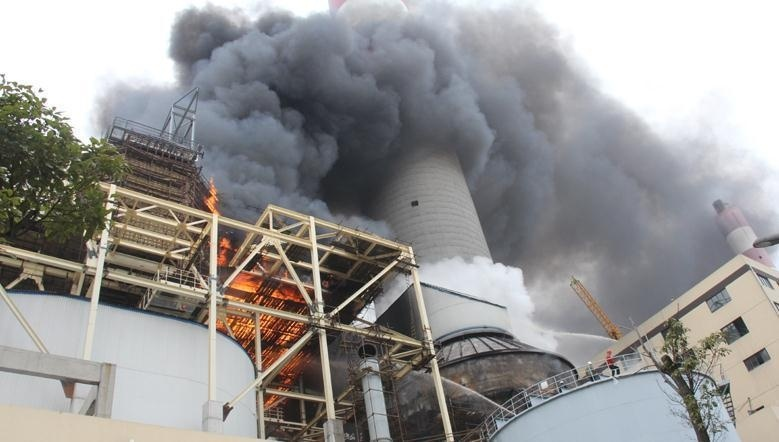fire: (215, 243, 303, 346), (201, 179, 219, 213)
